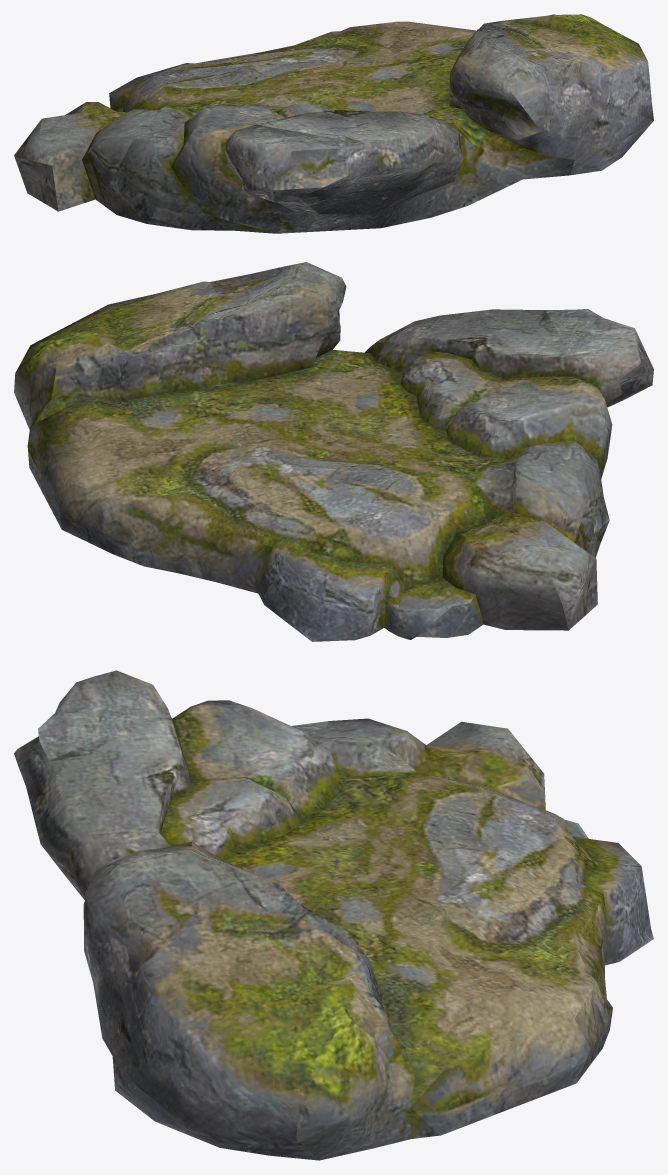
File: xinshoubujian12.FBX
3 renders of one model, top to bottom at view 1: azimuth 30°, elevation 25°; view 2: azimuth 150°, elevation 25°; view 3: azimuth 270°, elevation 25°, orthographic. The views are drawn at different scales.
Parts seen in each view (by area): view 1: 25; view 2: 25; view 3: 25.
Part boxes in pixels (x1,y1,x2,y2): 25: (14,14,653,233); 25: (14,262,653,641); 25: (14,670,653,1160).
Bounding box in the file's own units: 3.29 × 0.8575 × 2.33.
1 material, 1 textured.
